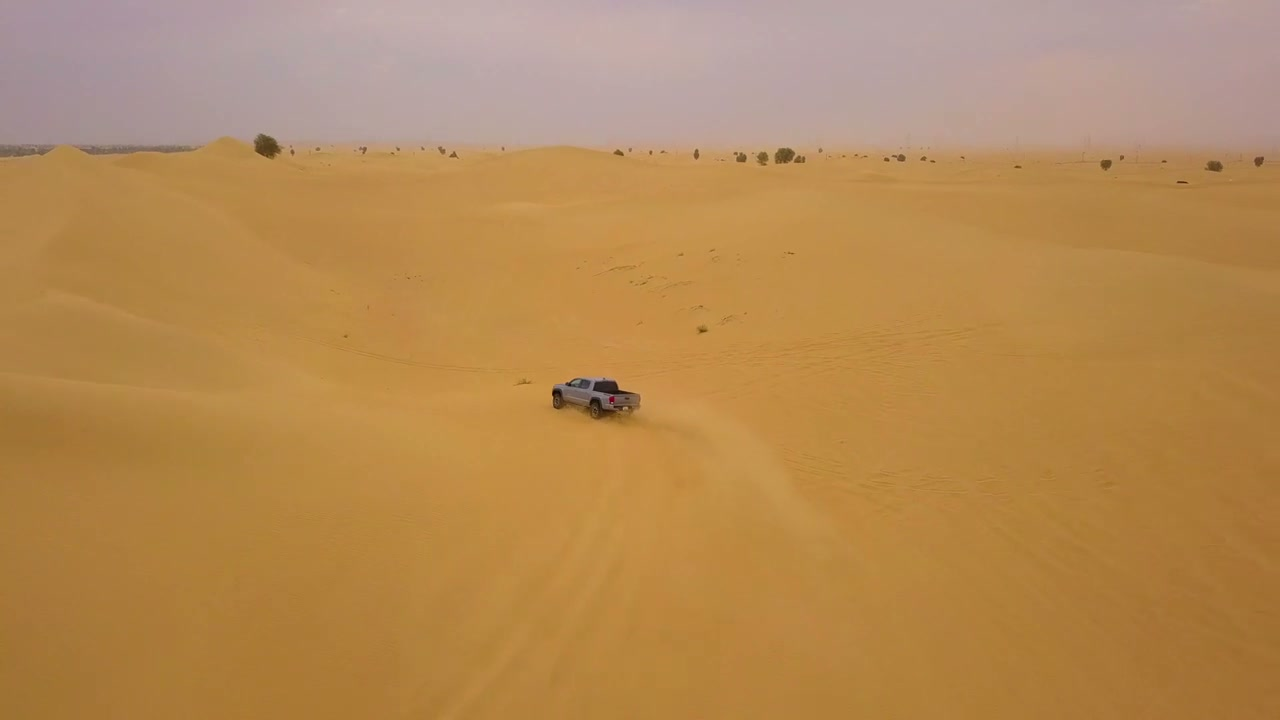vehicle_track: (419, 509, 679, 719)
